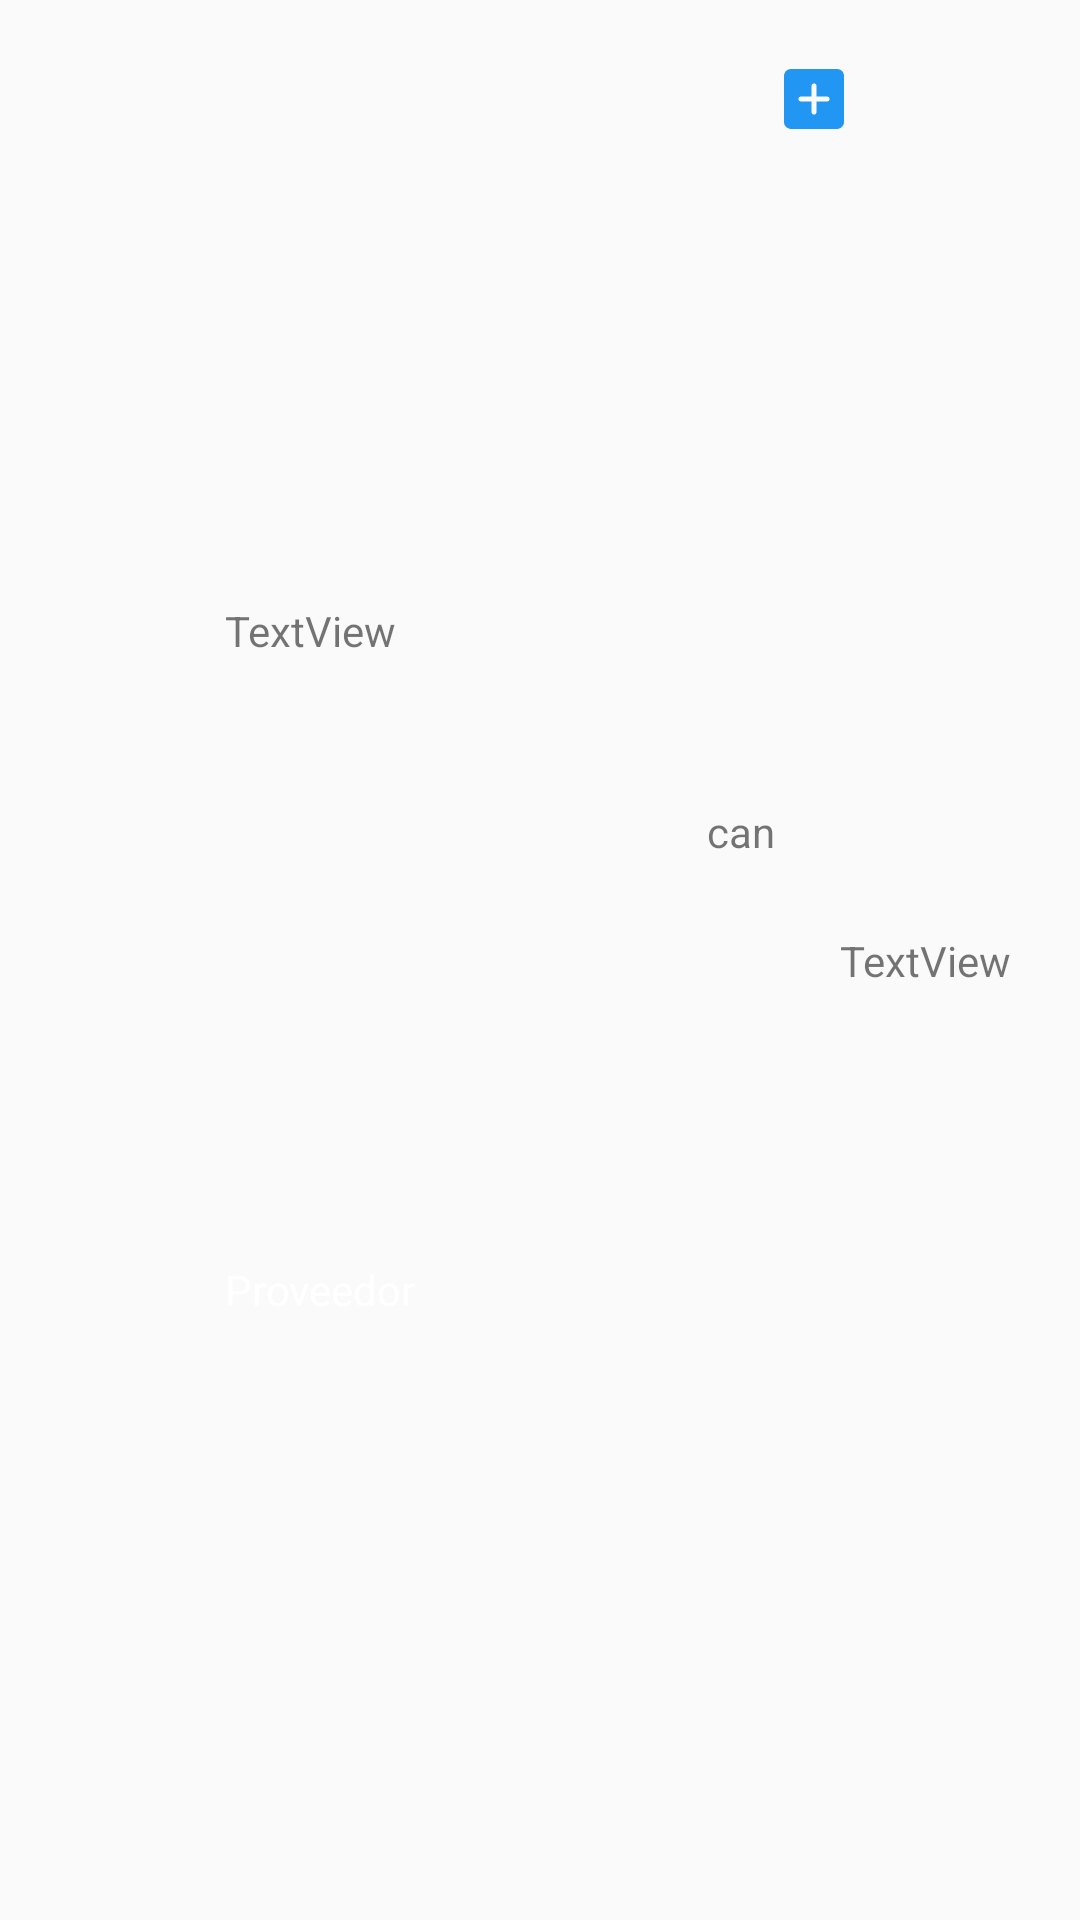

Icons on this 1080px×1920px Android screen, each with the point to tap as (x=x, y=y):
mas: (x=814, y=99)
